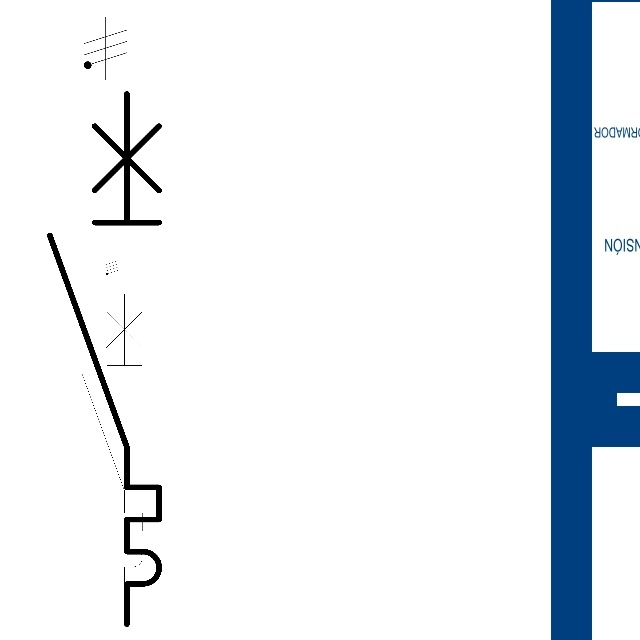interruptor_termomagnetico: (36, 80, 173, 638), (74, 286, 150, 597)
